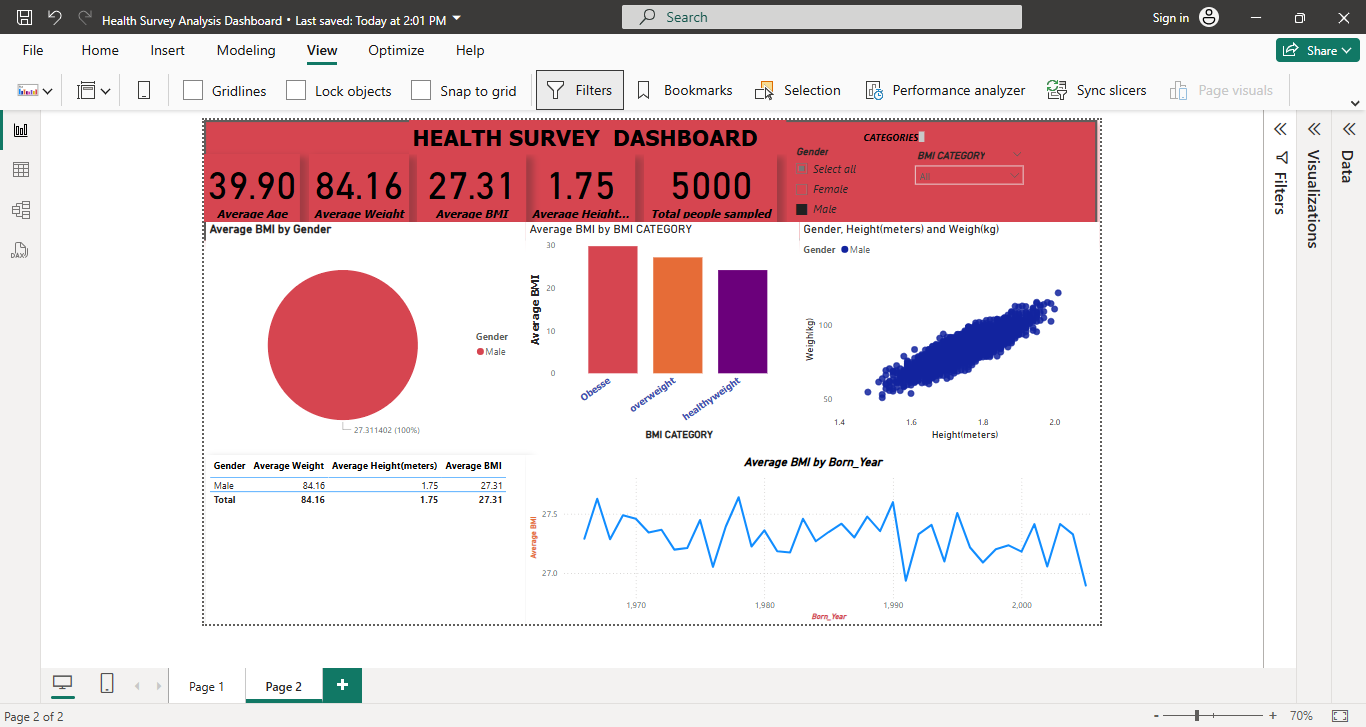

This screenshot's page, from the dashboard's own definition file:
{"tool":"powerbi","page":{"name":"Page 2","canvas":[1280,720],"ordinal":1},"visuals":[{"type":"actionButton","box":[0,0,1276,172],"z":0},{"type":"card","fields":{"Values":["Weight Dataset (2).Average Age"]},"box":[0,49.1,137.5,96.6],"z":1000},{"type":"card","fields":{"Values":["Weight Dataset (2).Average Height(meters)"]},"box":[460.3,48.7,156.2,97.4],"z":2000},{"type":"card","fields":{"Values":["Weight Dataset (2).Average Weight"]},"box":[149.5,48.7,142.8,97.4],"z":3000},{"type":"card","fields":{"Values":["Weight Dataset (2).Average BMI"]},"box":[304,48.7,156.2,97.4],"z":4000},{"type":"card","fields":{"Values":["Weight Dataset (2).Total people sampled"]},"box":[628.5,49.1,189.9,96.6],"z":5000},{"type":"textbox","box":[292.3,0,539.2,48.7],"z":6000},{"type":"slicer","fields":{"Values":["Weight Dataset (2).BMI CATEGORY"]},"box":[1006.2,37,174.7,107.5],"z":7000},{"type":"slicer","fields":{"Values":["Weight Dataset (2).Gender"]},"box":[833.2,31.9,157.9,114.2],"z":8000},{"type":"textbox","box":[0,237.5,150,150],"z":9000},{"type":"textbox","box":[937.3,11.8,97.4,25.2],"z":10000},{"type":"pieChart","fields":{"Category":["Weight Dataset (2).Gender"],"Y":["Weight Dataset (2).Average BMI"]},"box":[3.4,146.1,456.9,332.6],"z":11000},{"type":"clusteredColumnChart","fields":{"Y":["Weight Dataset (2).Average BMI"],"Category":["Weight Dataset (2).BMI CATEGORY"]},"box":[460.3,146.1,391.4,317.5],"z":12000},{"type":"scatterChart","fields":{"X":["Weight Dataset (2).Height(meters)"],"Y":["Weight Dataset (2).Weigh(kg)"],"Series":["Weight Dataset (2).Gender"]},"box":[851.7,146.1,428.3,317.5],"z":13000},{"type":"tableEx","fields":{"Values":["Weight Dataset (2).Gender","Weight Dataset (2).Average Weight","Weight Dataset (2).Average Height(meters)","Weight Dataset (2).Average BMI"]},"box":[3.4,478.7,456.9,241.9],"z":14000},{"type":"lineChart","fields":{"Category":["Weight Dataset (2).Born_Year"],"Y":["Weight Dataset (2).Average BMI"]},"box":[460.3,478.7,819.7,241.9],"z":15000}]}

Visuals, with their boxes on the page's 1280x720 design canvas (x1, y1, x2, y2). These are canvas units, not pixel positions in the 1366x727 screenshot, which may show the page scaled, cropped or inside an application window:
actionButton: [left=0, top=0, right=1276, bottom=172]
card - Weight Dataset (2).Average Age: [left=0, top=49, right=138, bottom=146]
card - Weight Dataset (2).Average Height(meters): [left=460, top=49, right=616, bottom=146]
card - Weight Dataset (2).Average Weight: [left=150, top=49, right=292, bottom=146]
card - Weight Dataset (2).Average BMI: [left=304, top=49, right=460, bottom=146]
card - Weight Dataset (2).Total people sampled: [left=628, top=49, right=818, bottom=146]
textbox: [left=292, top=0, right=832, bottom=49]
slicer - Weight Dataset (2).BMI CATEGORY: [left=1006, top=37, right=1181, bottom=144]
slicer - Weight Dataset (2).Gender: [left=833, top=32, right=991, bottom=146]
textbox: [left=0, top=238, right=150, bottom=388]
textbox: [left=937, top=12, right=1035, bottom=37]
pieChart - Weight Dataset (2).Gender x Weight Dataset (2).Average BMI: [left=3, top=146, right=460, bottom=479]
clusteredColumnChart - Weight Dataset (2).Average BMI x Weight Dataset (2).BMI CATEGORY: [left=460, top=146, right=852, bottom=464]
scatterChart - Weight Dataset (2).Height(meters) x Weight Dataset (2).Weigh(kg): [left=852, top=146, right=1280, bottom=464]
tableEx - Weight Dataset (2).Gender x Weight Dataset (2).Average Weight: [left=3, top=479, right=460, bottom=721]
lineChart - Weight Dataset (2).Born_Year x Weight Dataset (2).Average BMI: [left=460, top=479, right=1280, bottom=721]
